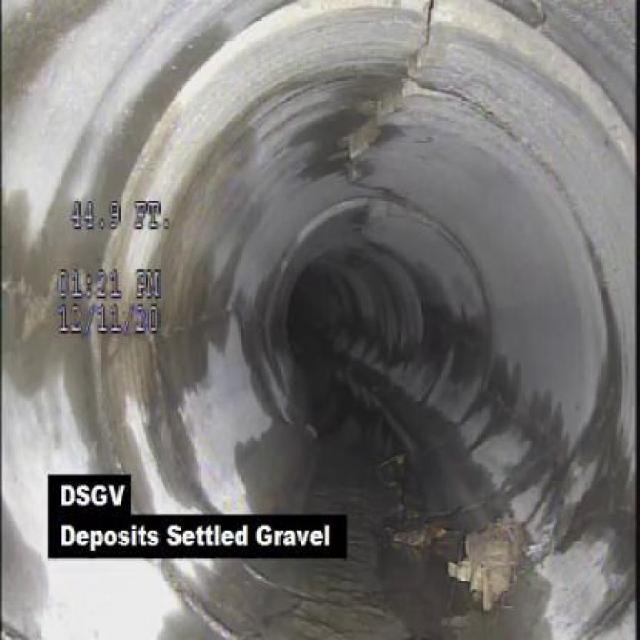Buckling: (337, 69, 415, 197)
Crack: (420, 74, 555, 175), (3, 270, 54, 328), (163, 305, 226, 343), (404, 3, 438, 69)
Debris: (398, 494, 531, 584), (269, 569, 423, 629)
Joint offset: (143, 2, 302, 82), (448, 3, 592, 72)
